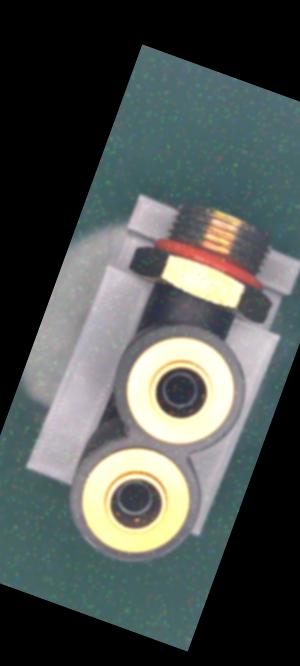joint line: (184, 307, 202, 328)
